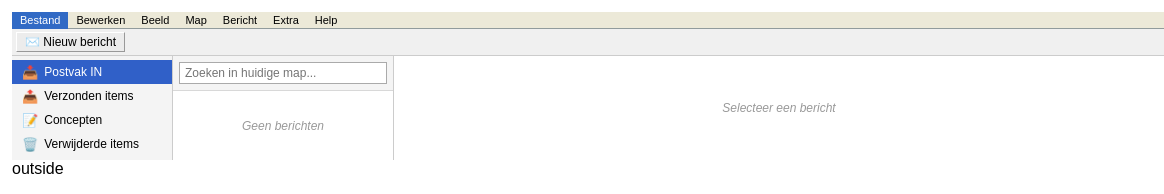
Scenario: MailPane › context menu host closes on escape and outside click
Right-click the element with test id "mail-message-list": (283, 126) [173,91,393,160]
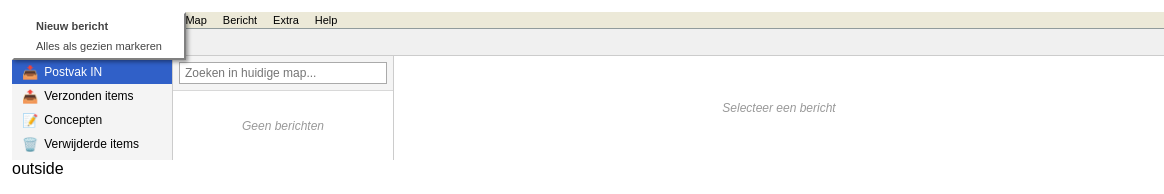
Now the element with class "ctx-menu" is shown, box [12,12,186,60]
Press Escape
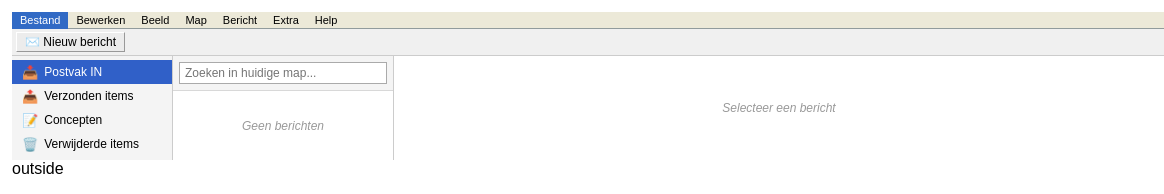
Now the element with class "ctx-menu" is gone
Right-click the element with test id "mail-message-list": (283, 126) [173,91,393,160]
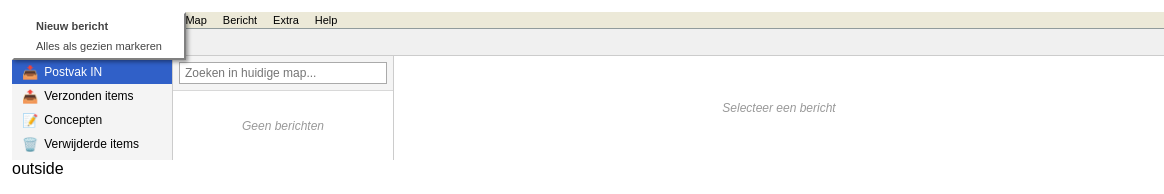
Now the element with class "ctx-menu" is shown, box [12,12,186,60]
Press the mouse on the text with test id "outside": (38, 168) [12,160,64,177]
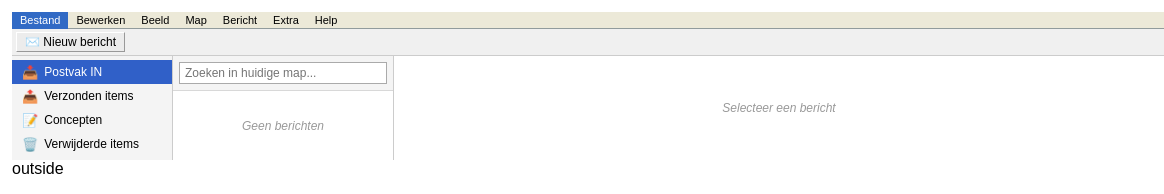
Now the element with class "ctx-menu" is gone
